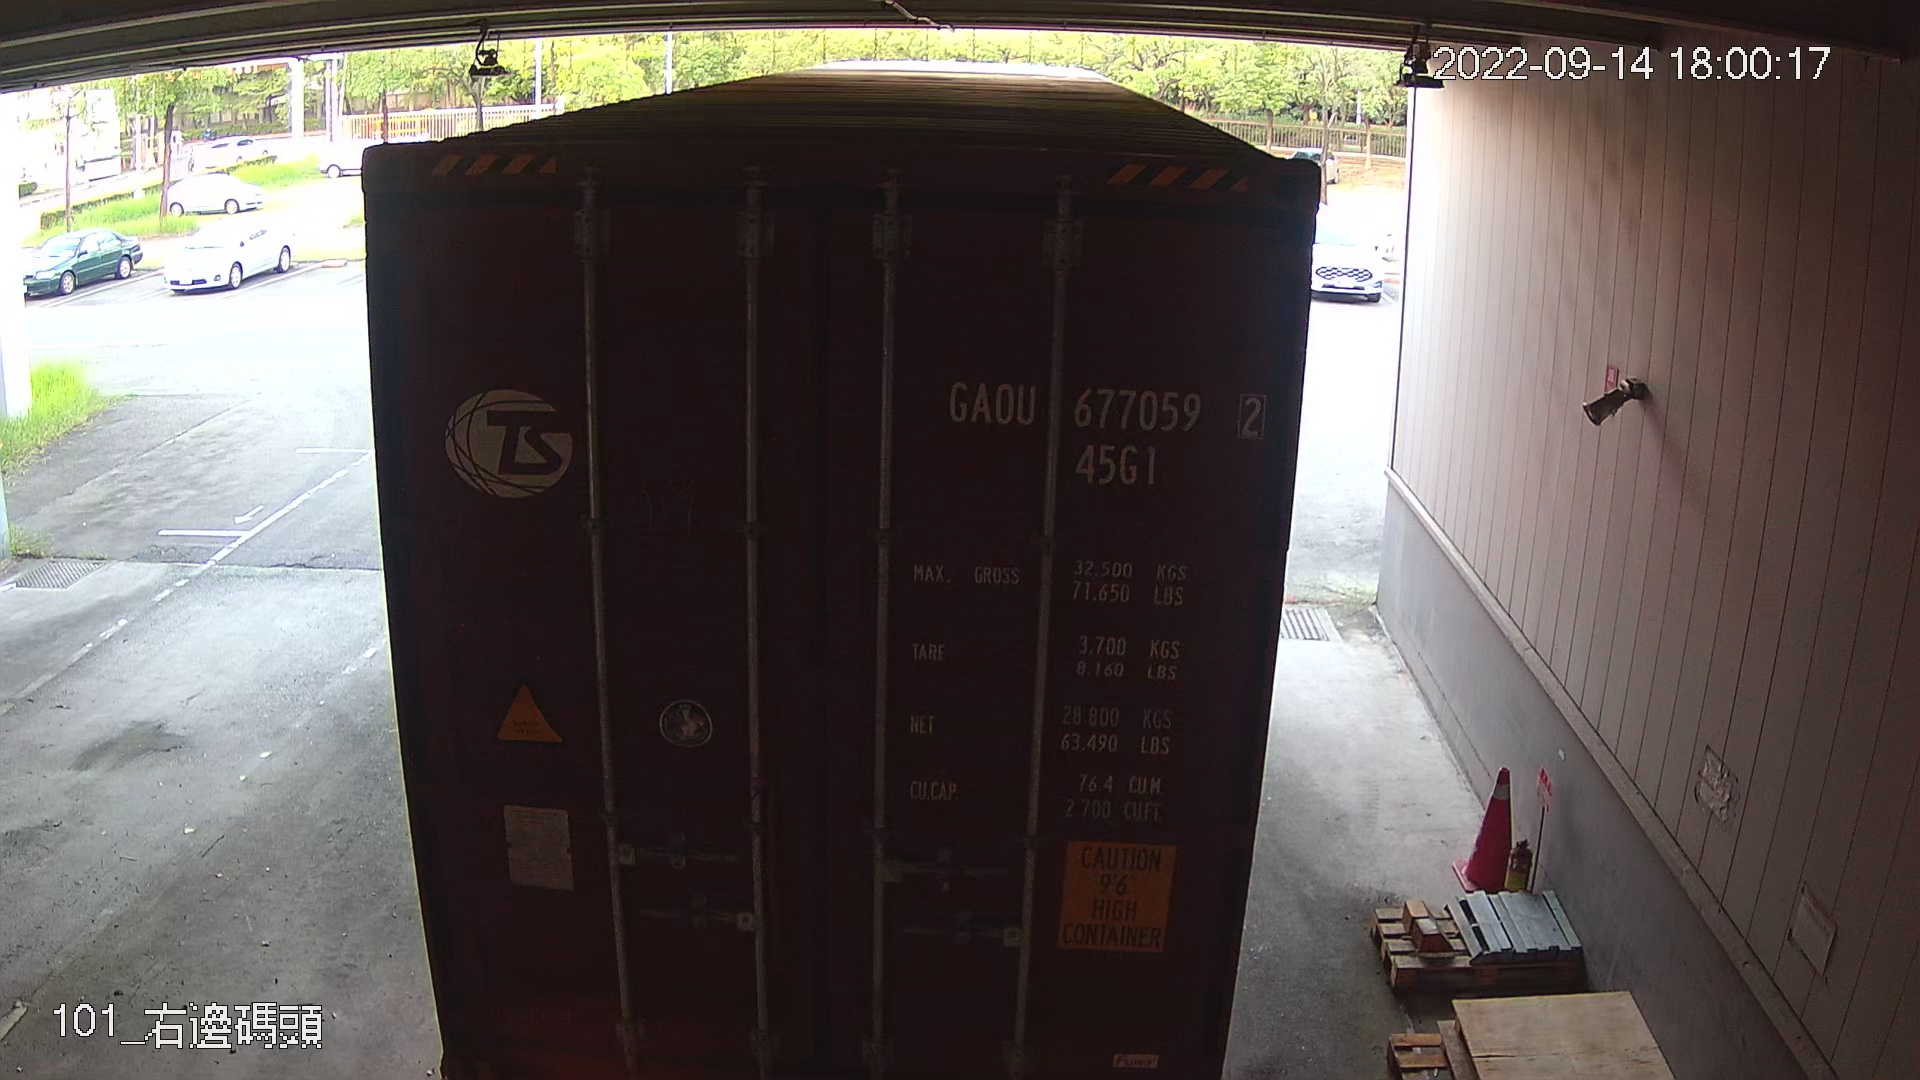container: (938, 357, 1273, 498)
